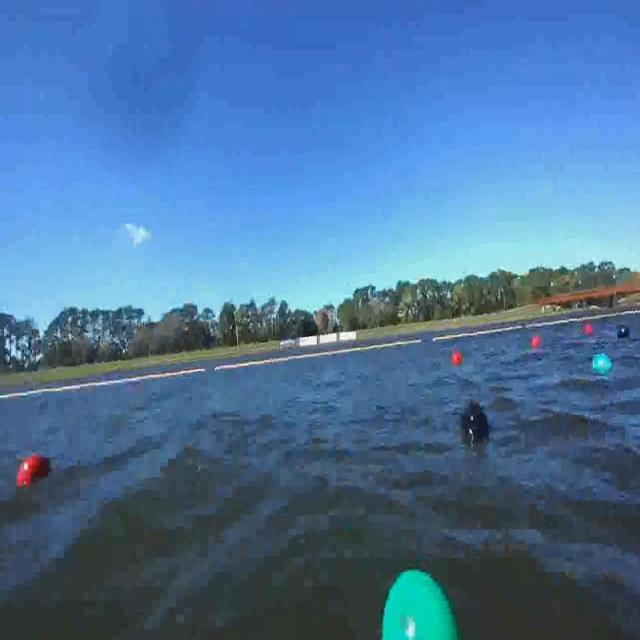black-buoy: (459, 403, 487, 441), (618, 325, 632, 338)
green-buoy: (376, 565, 469, 639), (591, 354, 609, 376)
red-buoy: (450, 351, 461, 367), (534, 337, 543, 349)
